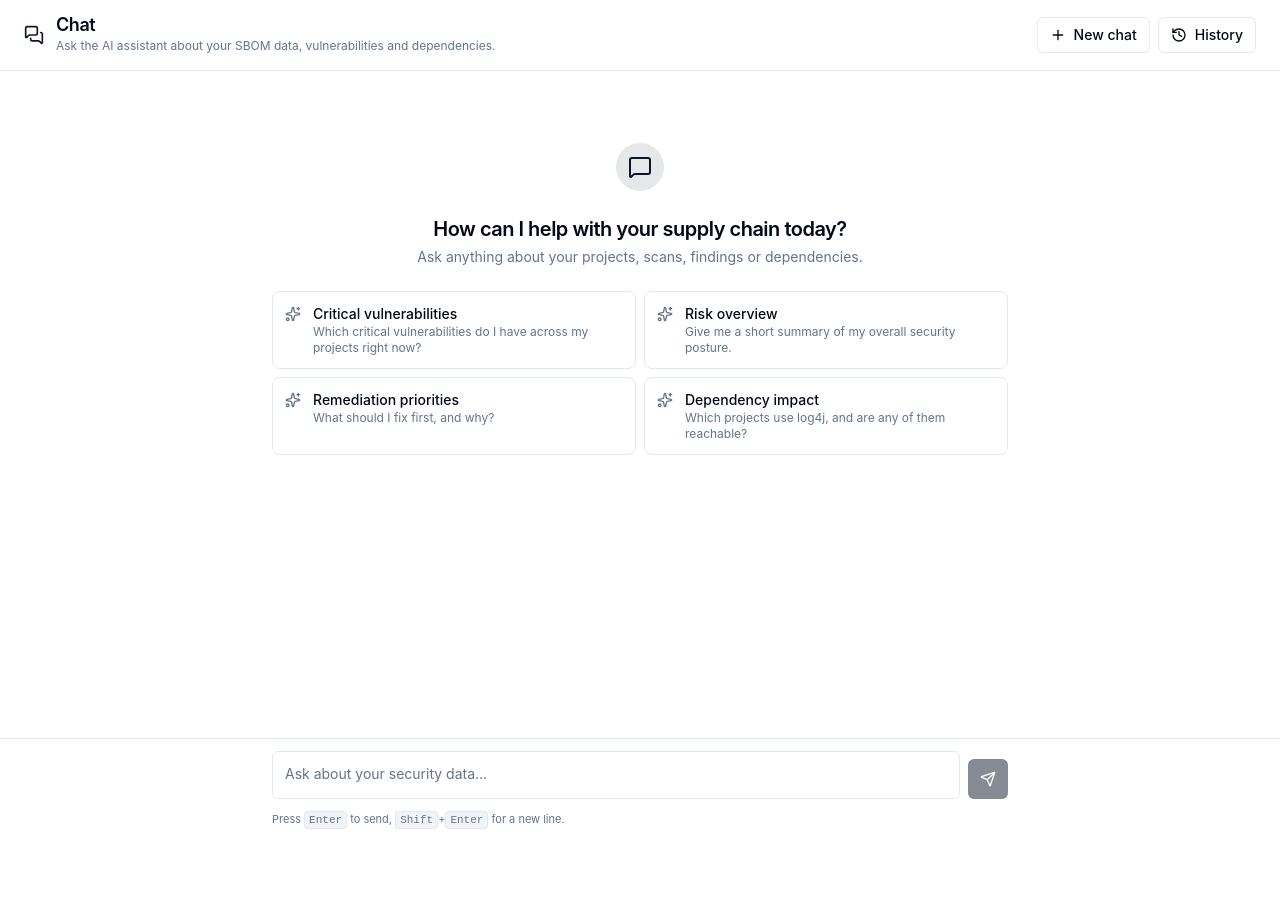
Test: Chat turn after the stream ends › refetches after Stop and shows the stored turn
Click the button "History": (1207, 35) [1158,17,1256,53]
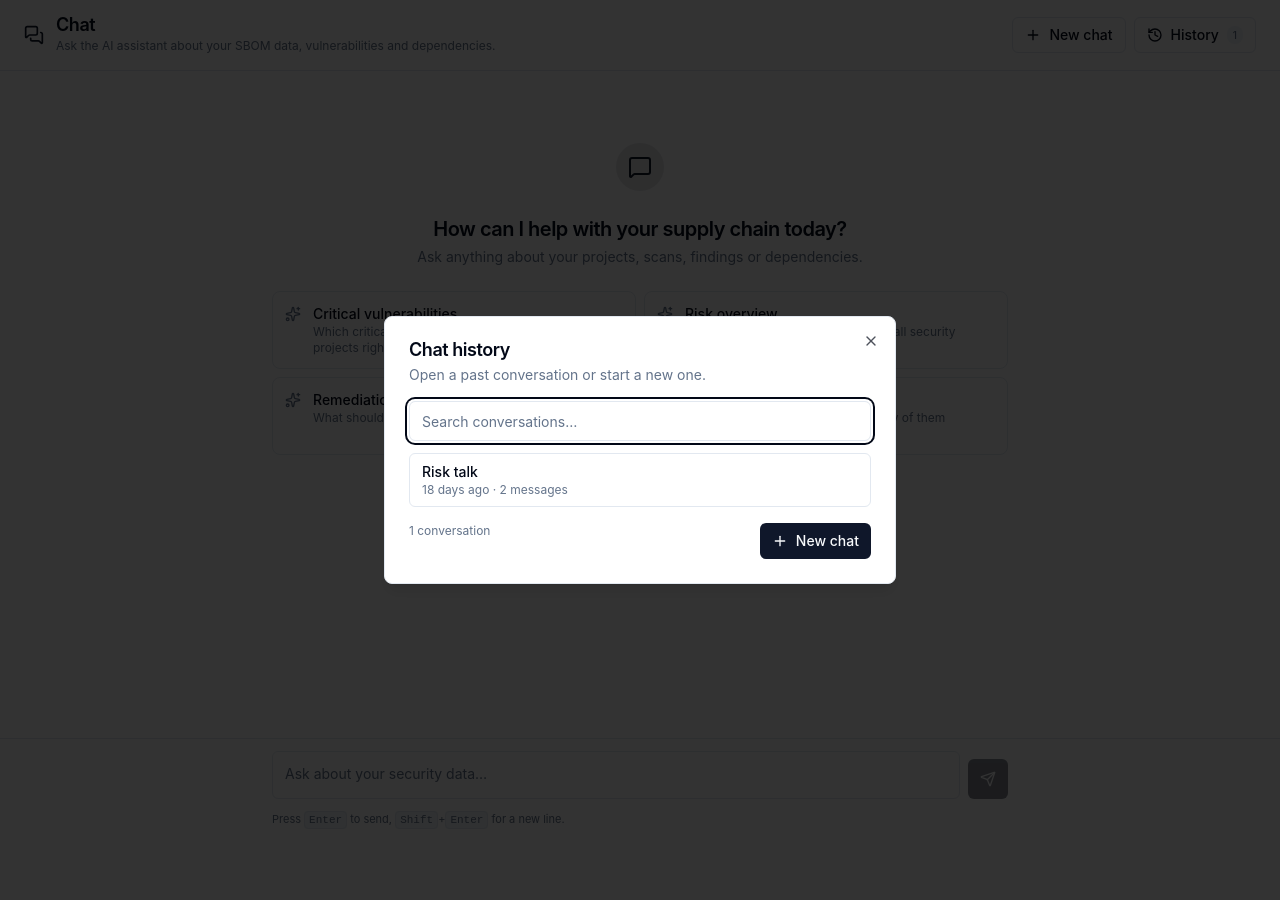
Click the text "Risk talk": (450, 472) [422,463,478,480]
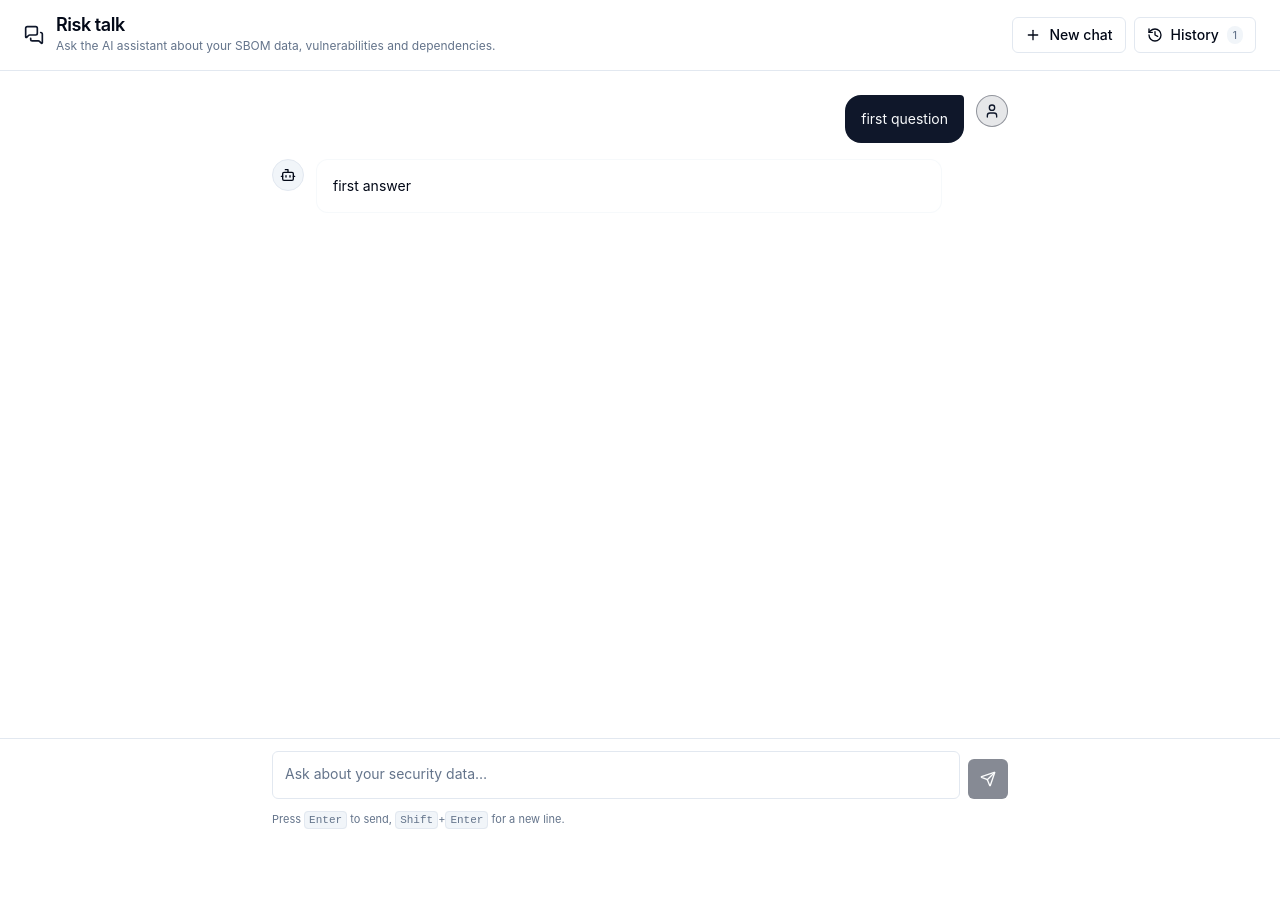
Expected: the text "first answer" is shown, [333,177,411,194]
In the text box with placeholder "Ask about your security data…": (616, 774) [272,750,960,798], type "second question"
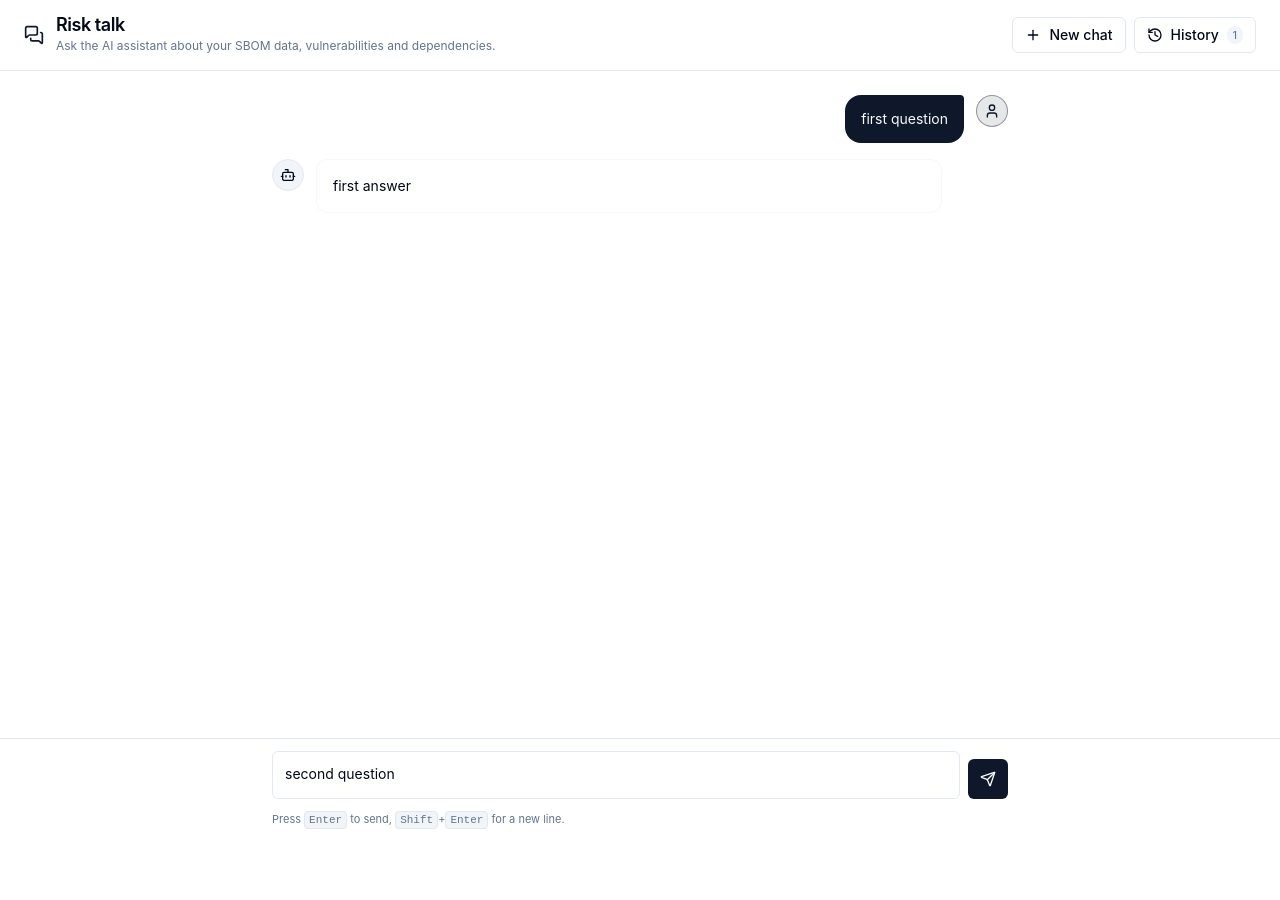
Click the button named "Send message": (988, 778) [968,758,1008,798]
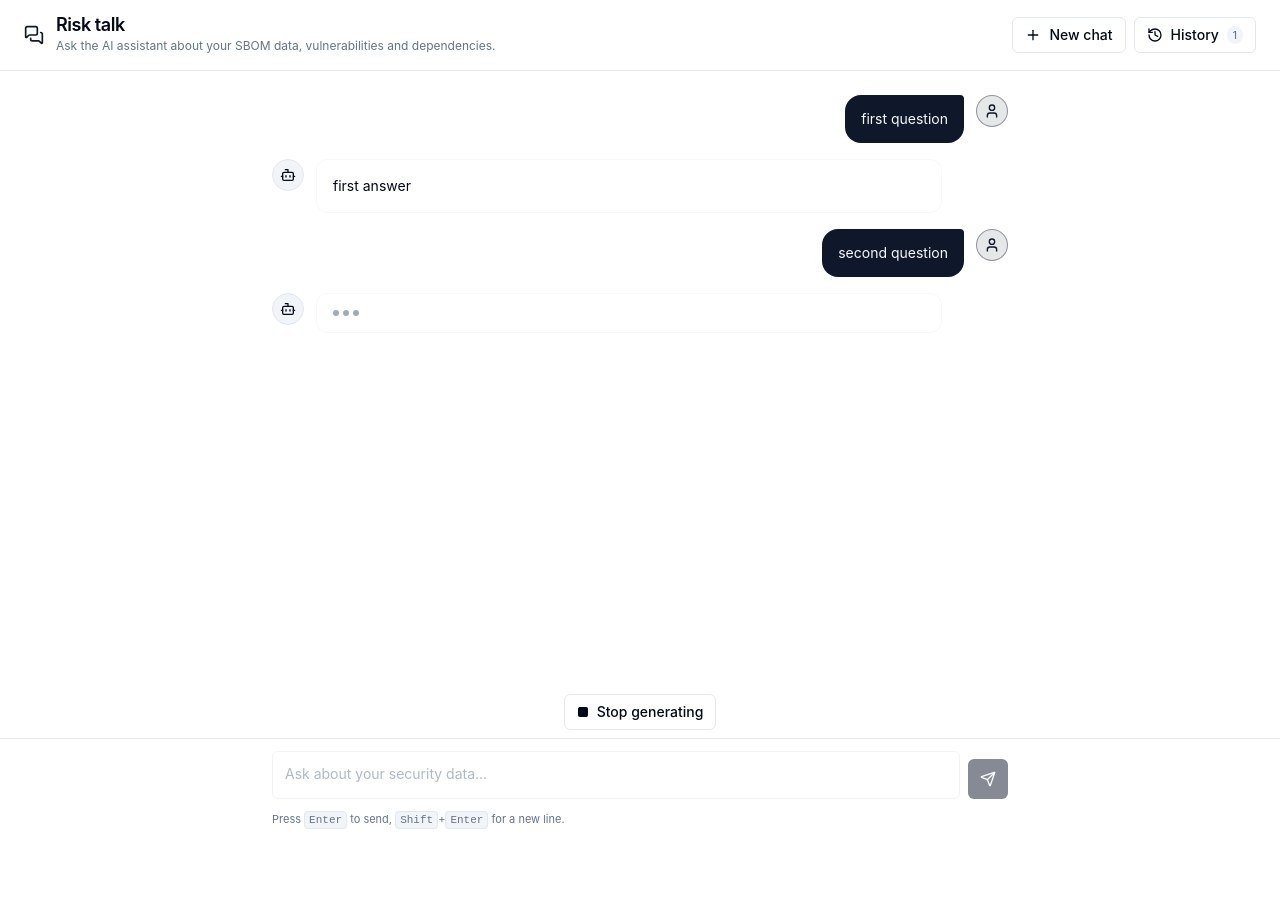
Click the button "Stop generating": (640, 712) [564,694,716,730]
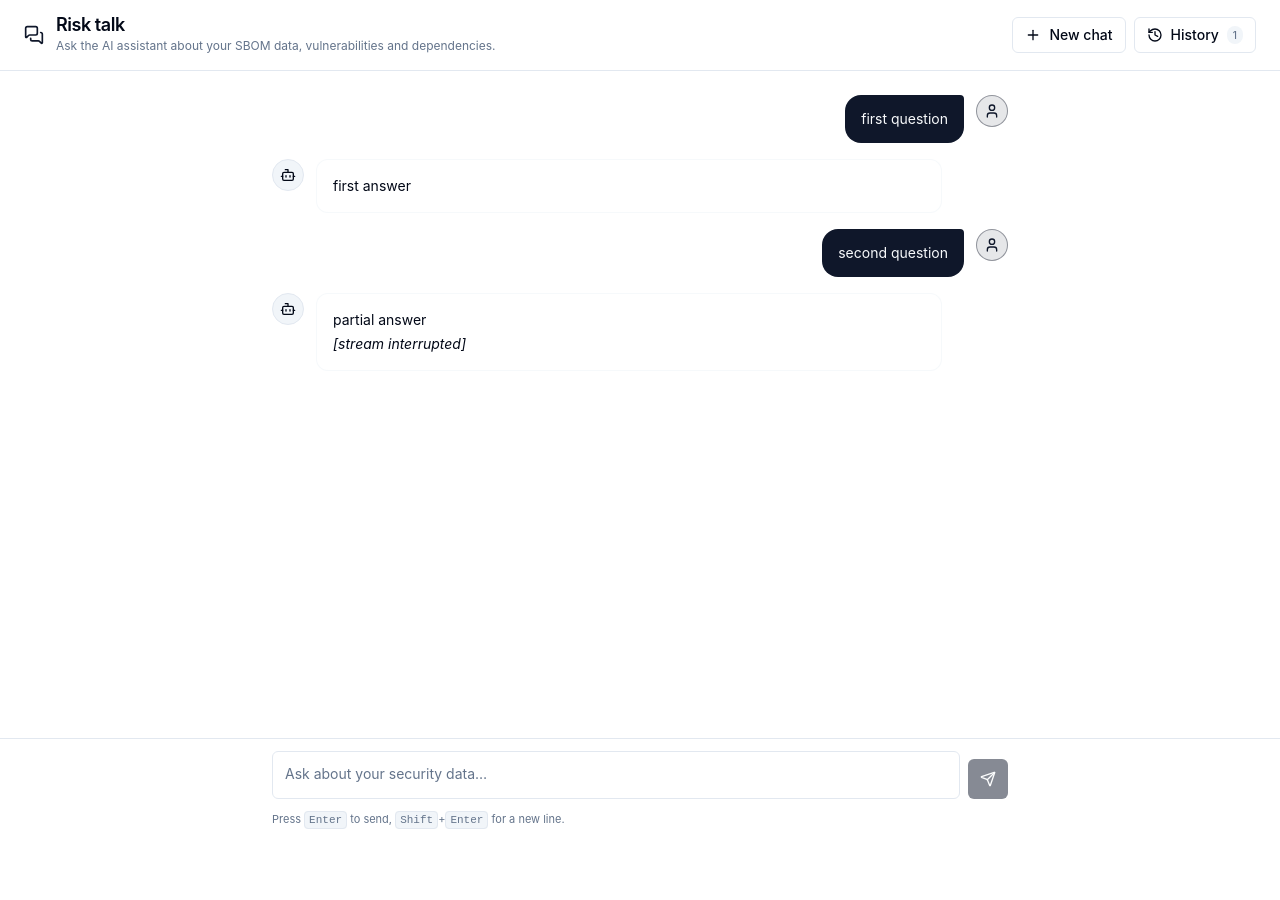
Expected: the text "second question" is shown, [838,243,948,263]
Expected: the text "[stream interrupted]" is shown, [333,335,466,352]
